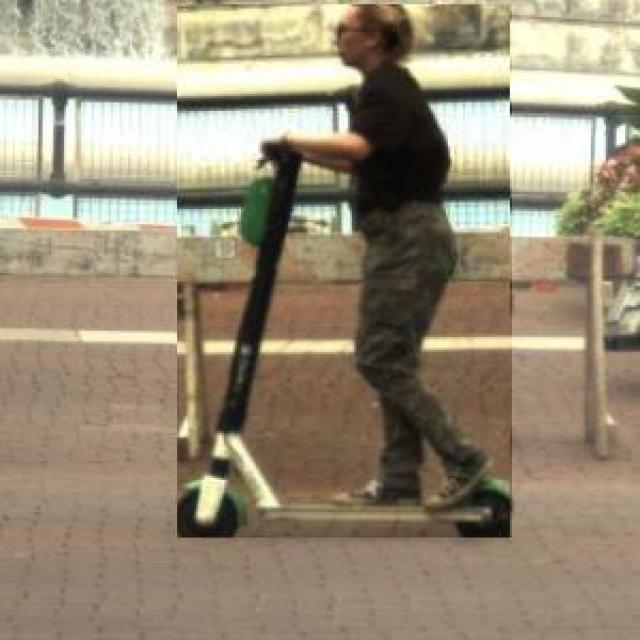with scooter: (179, 4, 514, 538)
